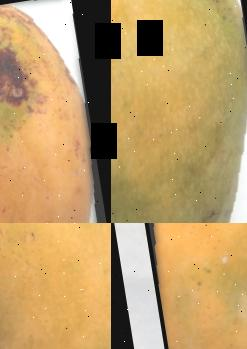PartiallyRipe: (111, 0, 247, 223), (134, 223, 247, 349), (0, 223, 111, 349)
Ripe: (0, 0, 111, 223)
